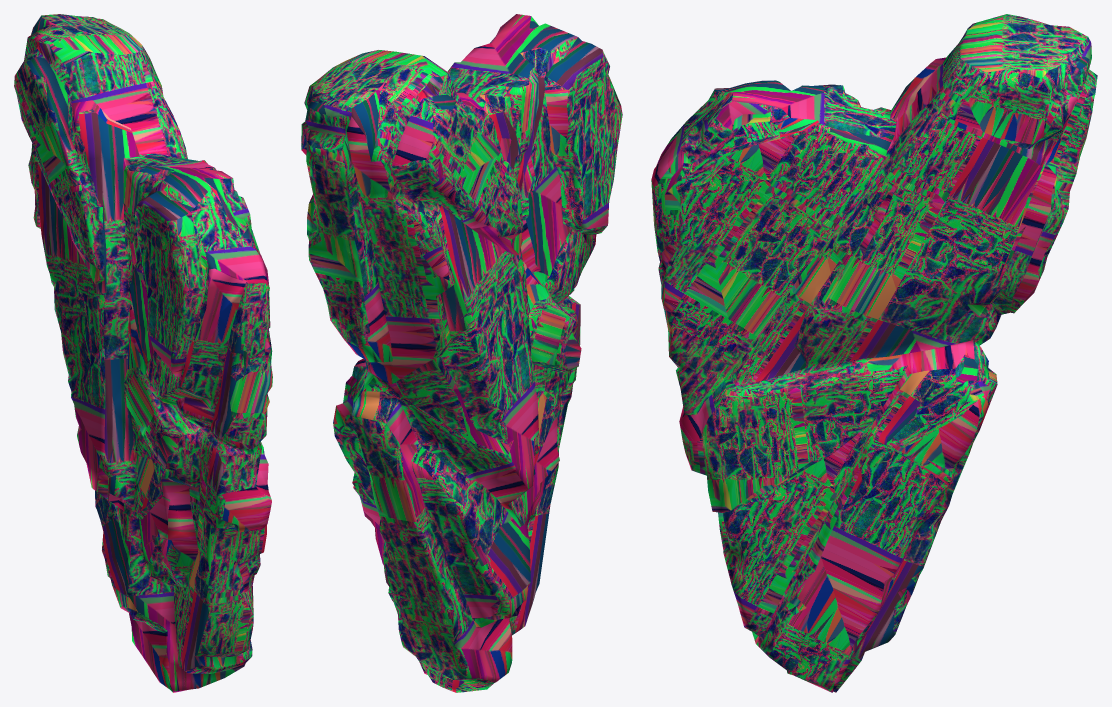
Rendered from SM_Rock6.fbx.
The picture shows the model from 3 angles, left to right: view 1: azimuth 30°, elevation 25°; view 2: azimuth 150°, elevation 25°; view 3: azimuth 270°, elevation 25°; orthographic projection. The views are drawn at different scales.
Visible parts, largest first — view 1: SM_Rock6_LOD0; view 2: SM_Rock6_LOD0; view 3: SM_Rock6_LOD0.
Part boxes in pixels (left/top/right/bottom): SM_Rock6_LOD0: left=14, top=14, right=272, bottom=692; SM_Rock6_LOD0: left=301, top=14, right=622, bottom=692; SM_Rock6_LOD0: left=651, top=14, right=1097, bottom=692.
Size of the model in its own units: 107 by 327 by 522.
Materials: 1 (1 with a texture image).
